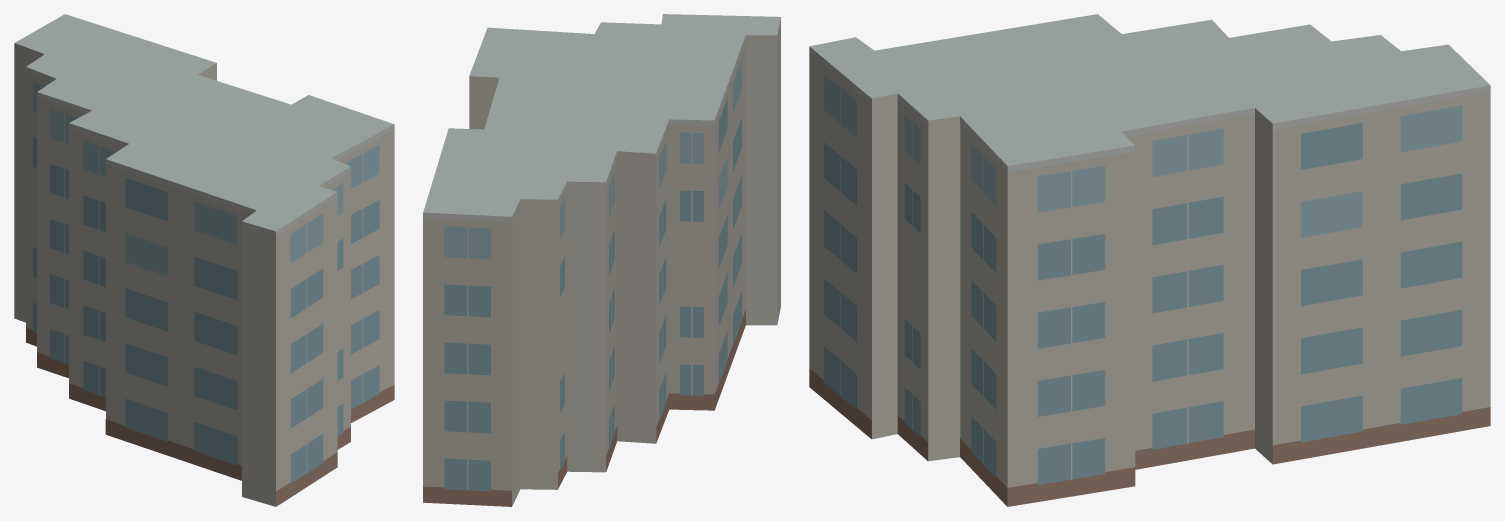
The model's file is survey-upis-32590708.glb.
The picture shows the model from 3 angles, left to right: view 1: azimuth 30°, elevation 25°; view 2: azimuth 150°, elevation 25°; view 3: azimuth 270°, elevation 25°; orthographic projection. The views are drawn at different scales.
Parts seen in each view (by area): view 1: survey-upis-32590708.tmp; view 2: survey-upis-32590708.tmp; view 3: survey-upis-32590708.tmp.
Boxes of the visible parts, x1,y1,x2,y2 form: survey-upis-32590708.tmp: (14, 14, 394, 506); survey-upis-32590708.tmp: (423, 14, 780, 506); survey-upis-32590708.tmp: (809, 14, 1490, 506).
Size of the model in its own units: 12.65 by 13.2 by 23.93.
